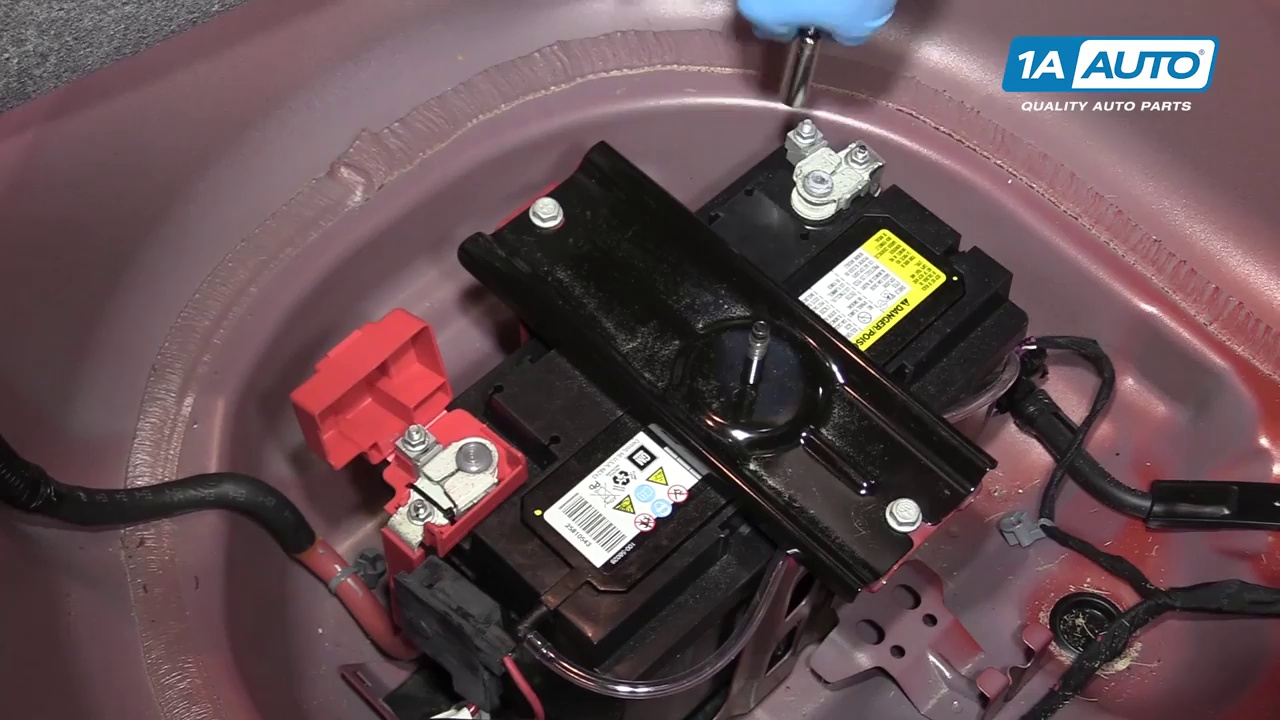battery: (345, 131, 1014, 620)
neg_connected: (763, 110, 894, 243)
pos_connected: (308, 355, 523, 569)
